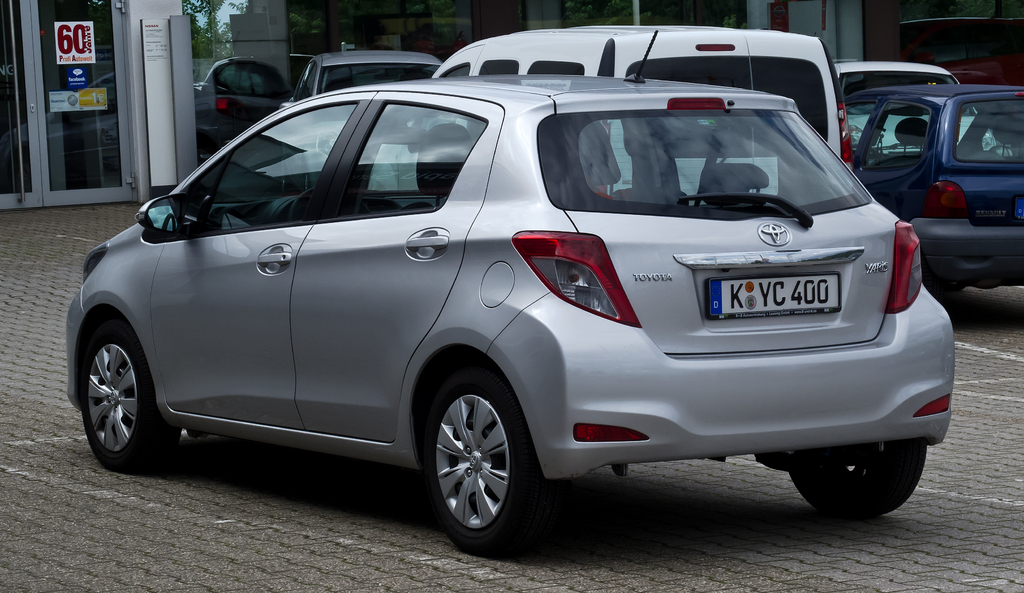Car: (72, 28, 953, 553), (424, 30, 855, 170), (830, 83, 1023, 305), (834, 58, 997, 175), (284, 44, 440, 104)
